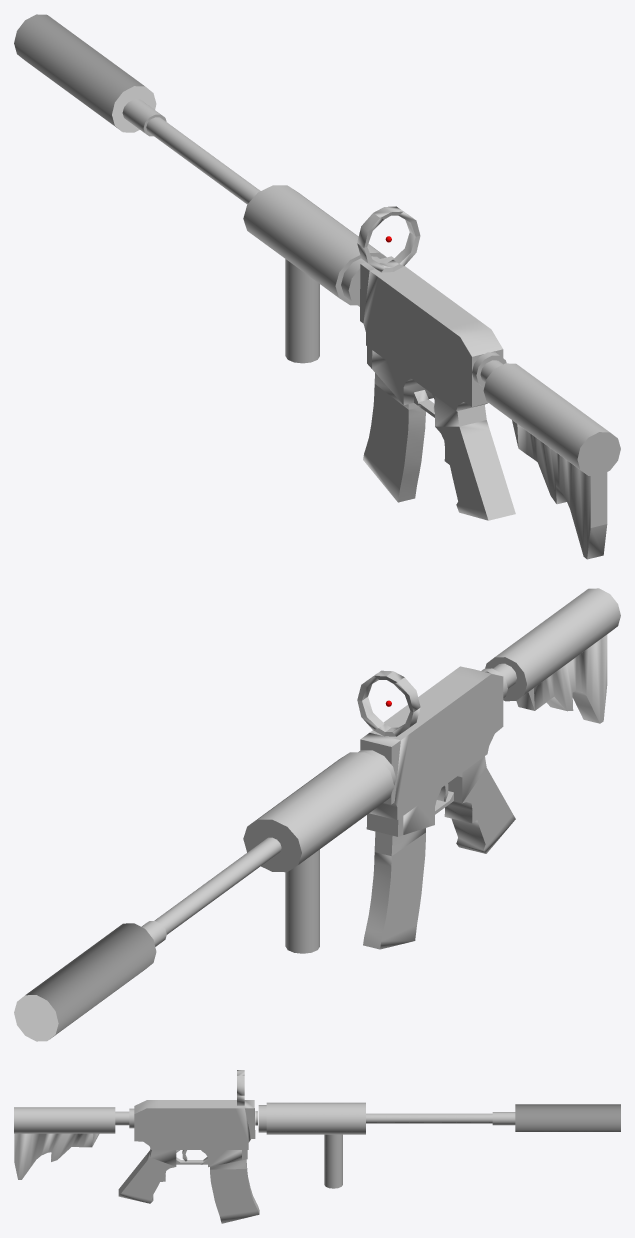
File: oldm4sopmod_world.fbx
3 views of the same model, one above another, from view 1: azimuth 30°, elevation 25°; view 2: azimuth 150°, elevation 25°; view 3: azimuth 270°, elevation 25° (orthographic). The views are drawn at different scales.
Parts seen in each view (by area): view 1: m4_body, m4_stock, m4_grip, m4_silencer, m4_pistolgrip, m4_clip, m4_barrel, m4_tommygrip, m4_ring; view 2: m4_body, m4_stock, m4_grip, m4_silencer, m4_clip, m4_pistolgrip, m4_tommygrip, m4_barrel, m4_ring; view 3: m4_body, m4_stock, m4_grip, m4_silencer, m4_clip, m4_pistolgrip, m4_barrel, m4_tommygrip, m4_ring, m4_trigger.
Boxes of the visible parts, x1,y1,x2,y2 form: m4_body: (360,256,503,411); m4_stock: (472,352,620,559); m4_grip: (243,185,386,306); m4_silencer: (14,14,156,132); m4_pistolgrip: (435,396,515,520); m4_clip: (363,373,425,502); m4_barrel: (122,99,260,204); m4_tommygrip: (285,259,319,363); m4_ring: (357,206,420,272); m4_body: (360,666,503,836); m4_stock: (481,588,620,723); m4_grip: (243,750,395,872); m4_silencer: (14,923,156,1041); m4_clip: (363,828,425,949); m4_pistolgrip: (444,756,515,853); m4_tommygrip: (285,849,319,953); m4_barrel: (141,837,281,946); m4_ring: (357,670,420,736); m4_body: (134,1100,255,1167); m4_stock: (14,1107,134,1179); m4_grip: (255,1102,365,1134); m4_silencer: (515,1104,620,1131); m4_clip: (210,1159,259,1223); m4_pistolgrip: (118,1148,176,1203); m4_barrel: (366,1112,515,1125); m4_tommygrip: (324,1134,342,1188); m4_ring: (237,1070,244,1105); m4_trigger: (176,1150,207,1164).
Bounding box in the file's own units: 2.64 × 11.92 × 43.7.
